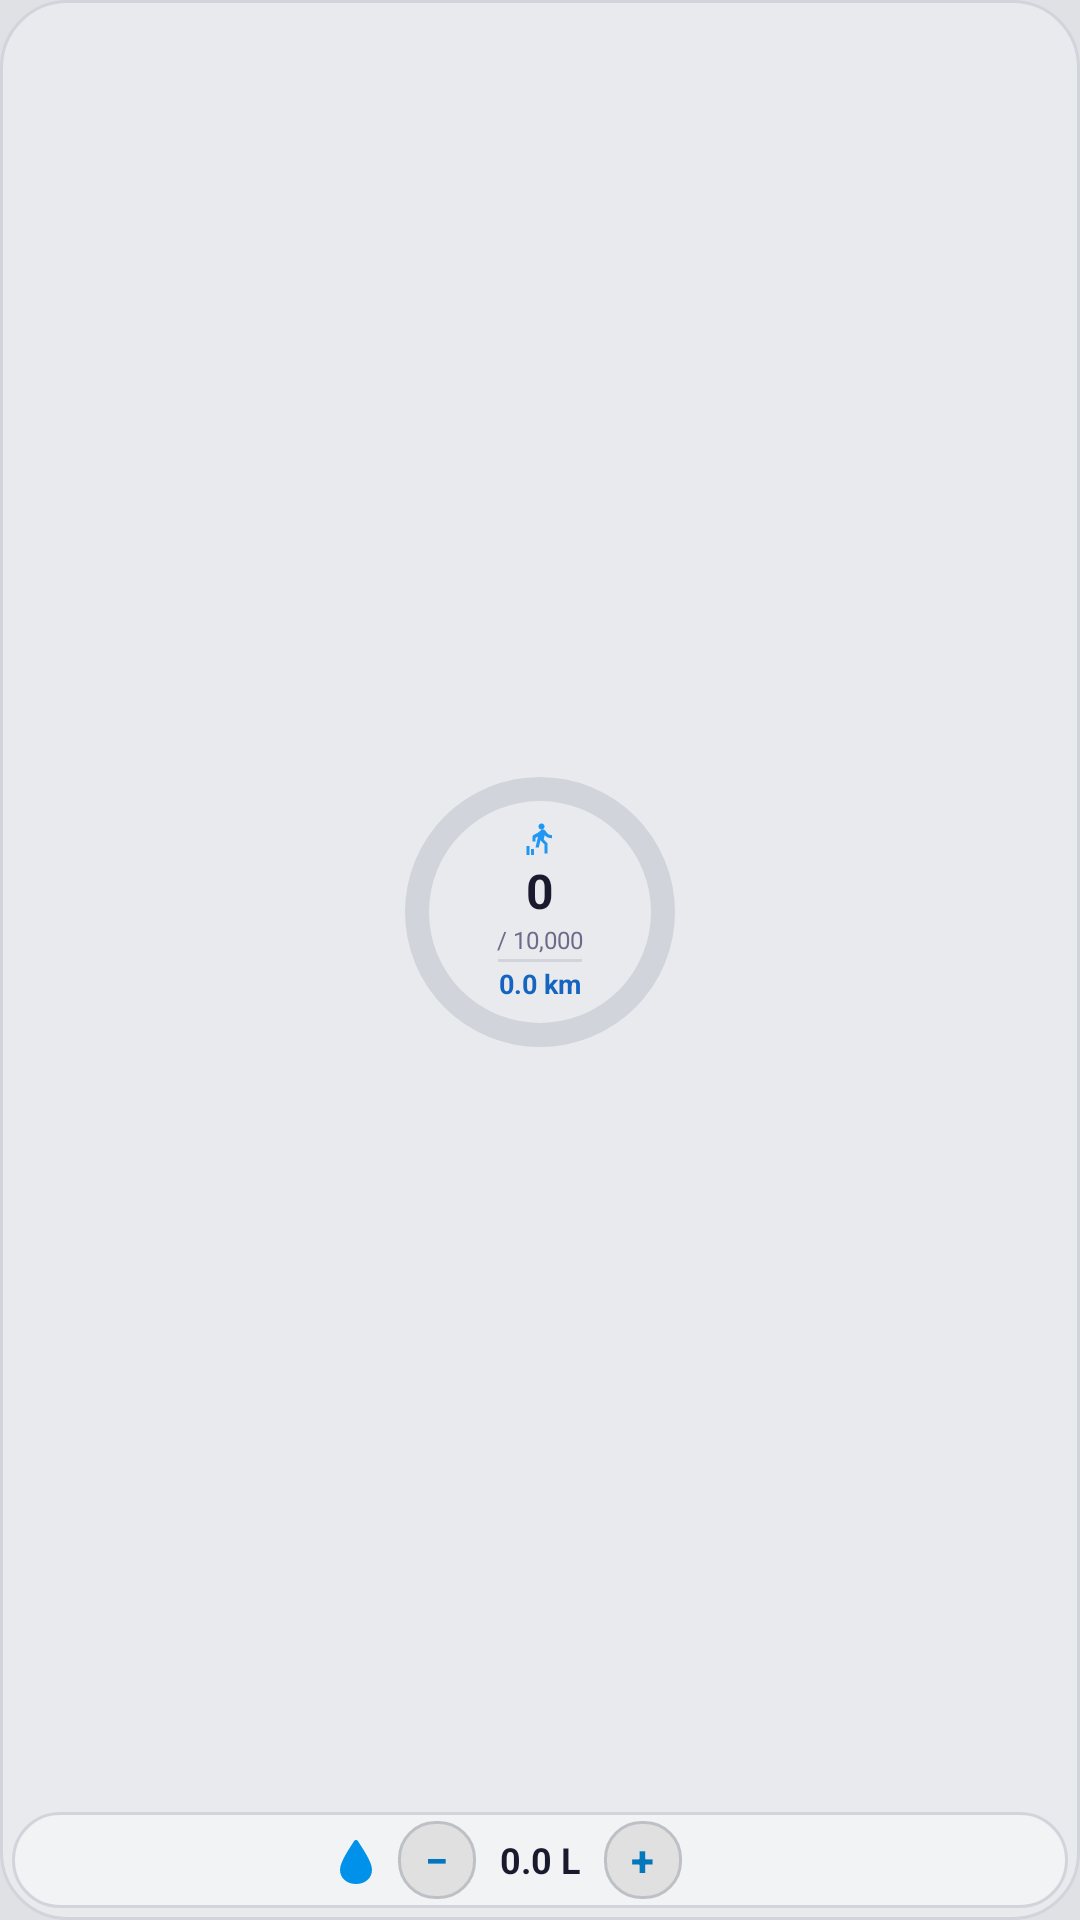

Icons on this 1080x1920 Android screen, each with the point to tap as (x,y):
Steps: (539,839)
Water intake: (356,1862)
